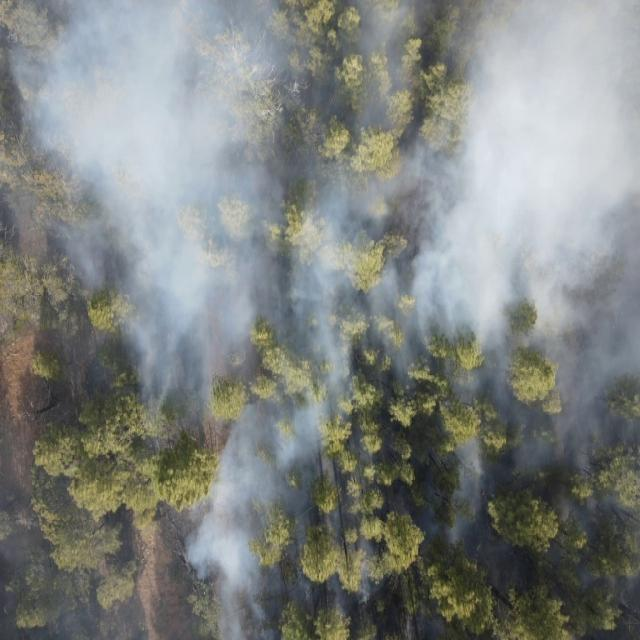smoke: (0, 0, 640, 295), (189, 422, 640, 640), (117, 294, 640, 422), (0, 480, 189, 640)
